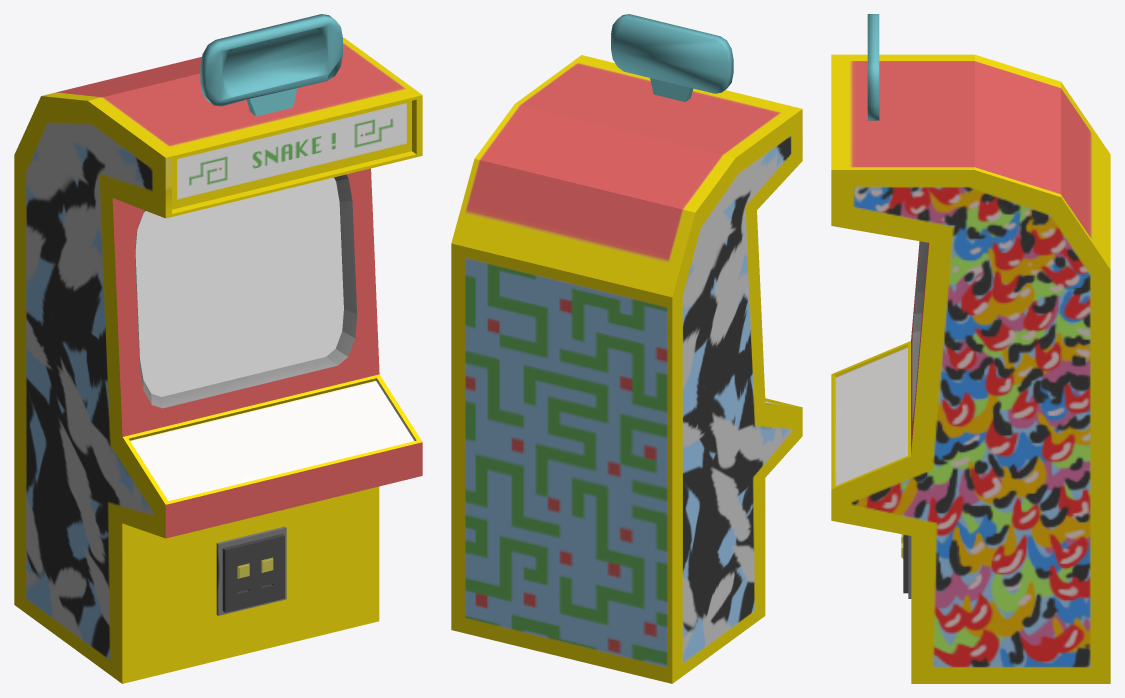
The model's file is Arcade_v2.obj.
3 views of the same model, side by side, from view 1: azimuth 30°, elevation 25°; view 2: azimuth 150°, elevation 25°; view 3: azimuth 270°, elevation 25° (orthographic). The views are drawn at different scales.
Parts seen in each view (by area): view 1: Cube.001_Cube; view 2: Cube.001_Cube; view 3: Cube.001_Cube.
Boxes of the visible parts, x1,y1,x2,y2 form: Cube.001_Cube: (14, 14, 422, 683); Cube.001_Cube: (451, 14, 802, 683); Cube.001_Cube: (831, 14, 1110, 683).
Size of the model in its own units: 1.28 by 3.04 by 1.31.
